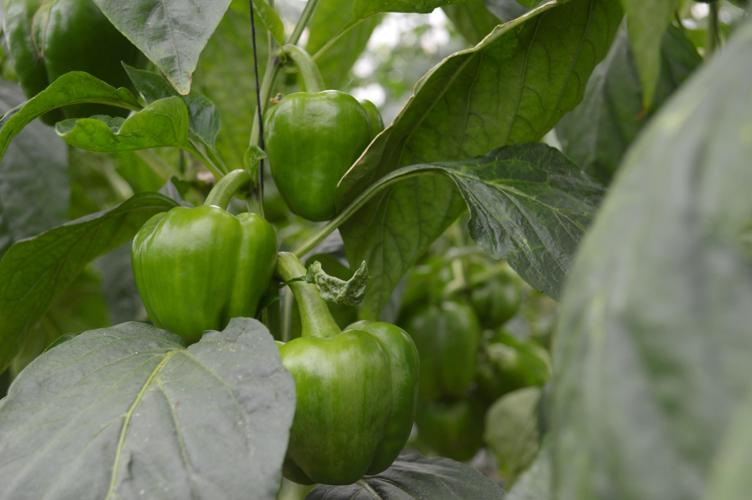BellPepper: (275, 322, 416, 482), (132, 207, 273, 330), (4, 5, 141, 122), (257, 94, 376, 214), (265, 259, 359, 337), (407, 305, 473, 392), (418, 401, 484, 462)
